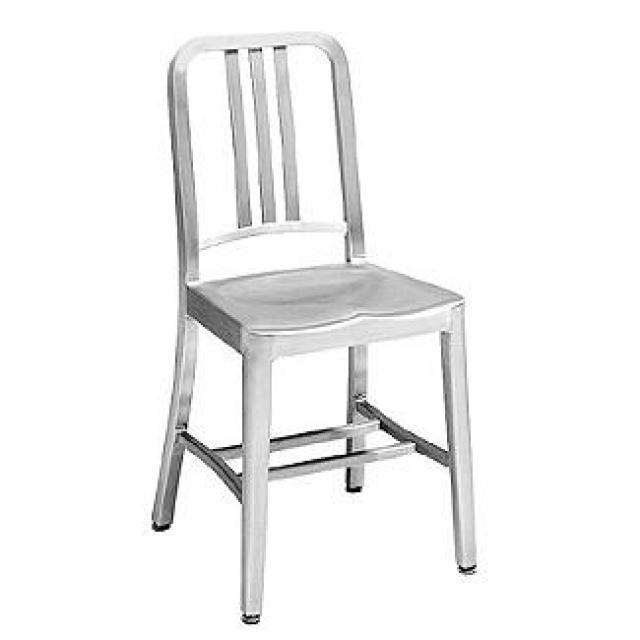chair: (150, 30, 480, 625)
